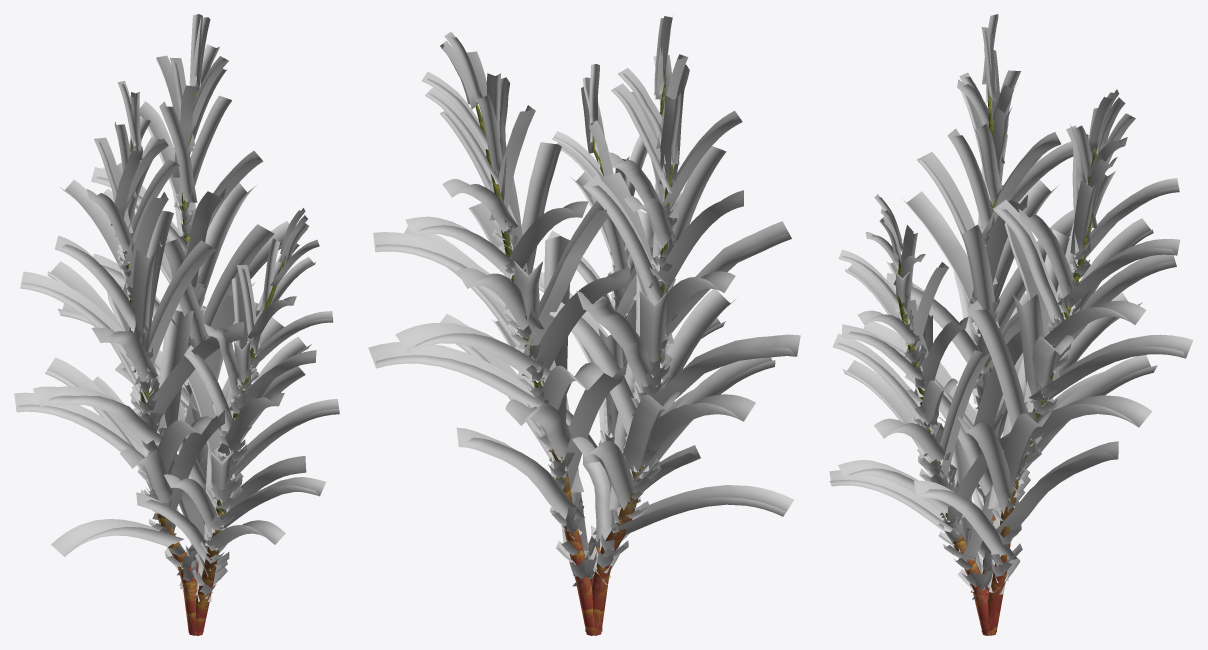
The model's file is Plant5_2_L0.fbx.
3 renders of one model, left to right at view 1: azimuth 30°, elevation 25°; view 2: azimuth 150°, elevation 25°; view 3: azimuth 270°, elevation 25°, orthographic. The views are drawn at different scales.
Visible parts, largest first — view 1: polySurface15; view 2: polySurface15; view 3: polySurface15.
Boxes of the visible parts, <box> form: polySurface15: <box>14,14,339,635</box>; polySurface15: <box>368,16,800,635</box>; polySurface15: <box>829,14,1193,635</box>.
Bounding box in the file's own units: 319 × 565 × 320.
